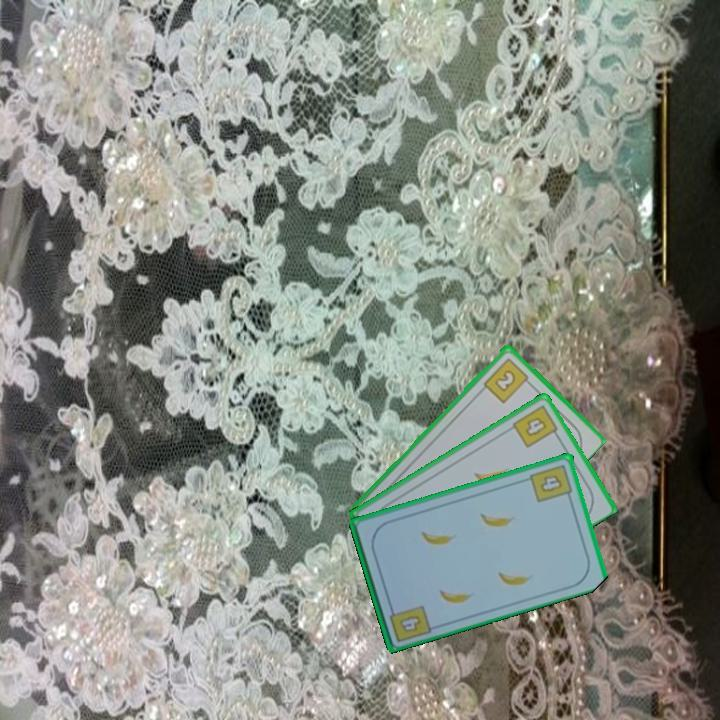2b: (480, 354, 534, 406)
4b: (509, 401, 562, 451), (527, 460, 576, 505), (385, 601, 434, 645)
